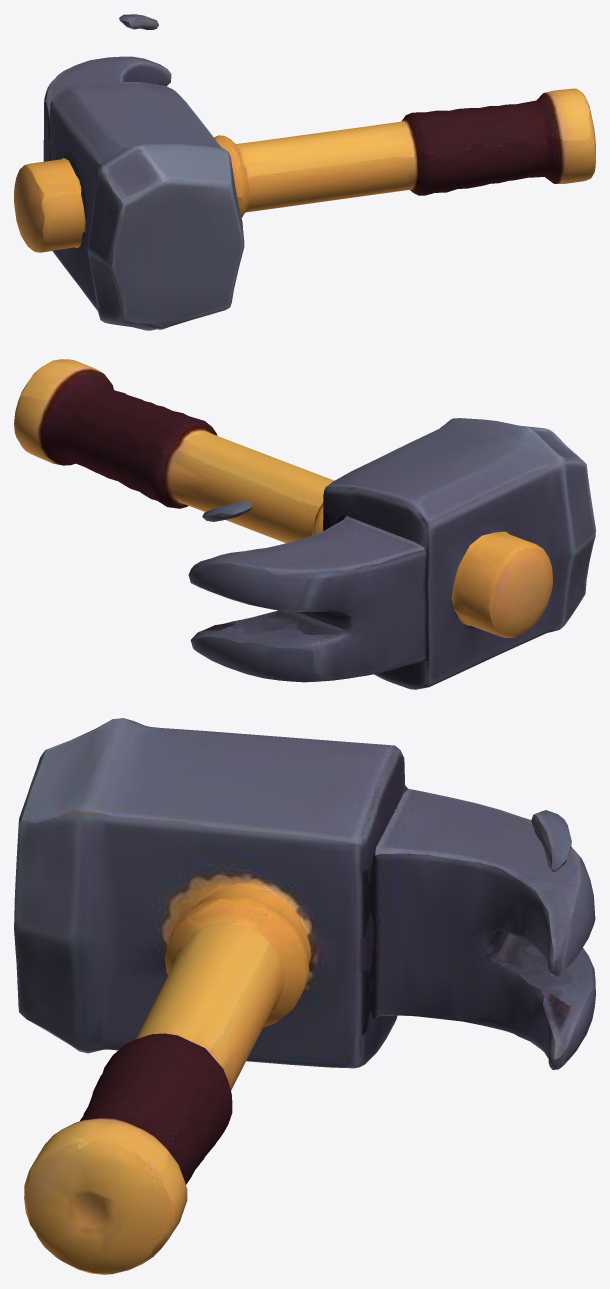
File: hammer.glb
3 renders of one model, top to bottom at view 1: azimuth 30°, elevation 25°; view 2: azimuth 150°, elevation 25°; view 3: azimuth 270°, elevation 25°, orthographic. The views are drawn at different scales.
Visible parts, largest first — view 1: item_hammer; view 2: item_hammer; view 3: item_hammer.
Part boxes in pixels (box(x1,y1,x2,y2)): item_hammer: box(14, 14, 595, 330); item_hammer: box(14, 359, 595, 689); item_hammer: box(14, 718, 595, 1274).
Size of the model in its own units: 1 by 0.3475 by 0.6132.
Materials: 1 (1 with a texture image).
